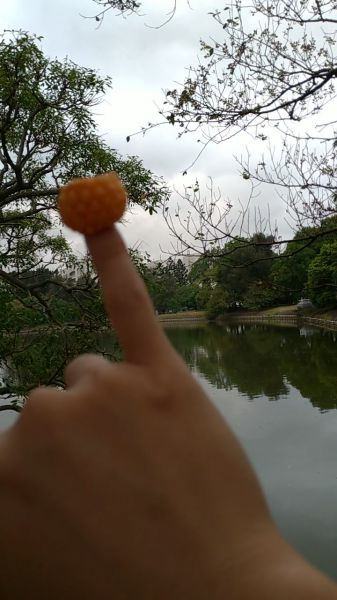eggs: (61, 174, 128, 232)
